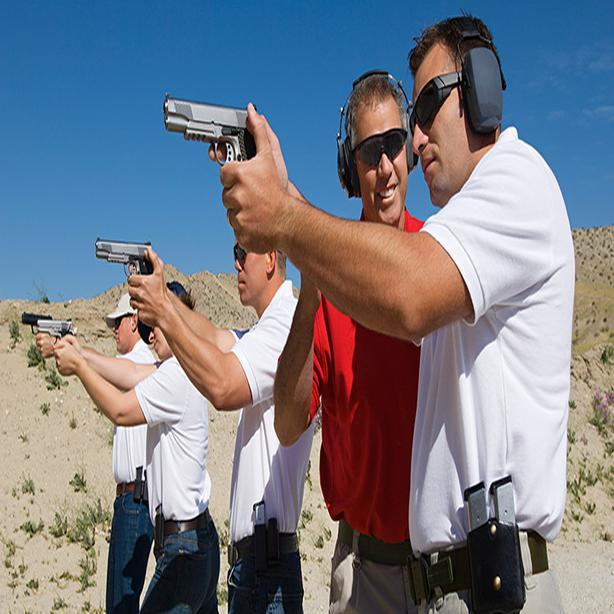Firearm: (156, 92, 280, 173), (90, 218, 170, 289), (18, 301, 88, 360)
